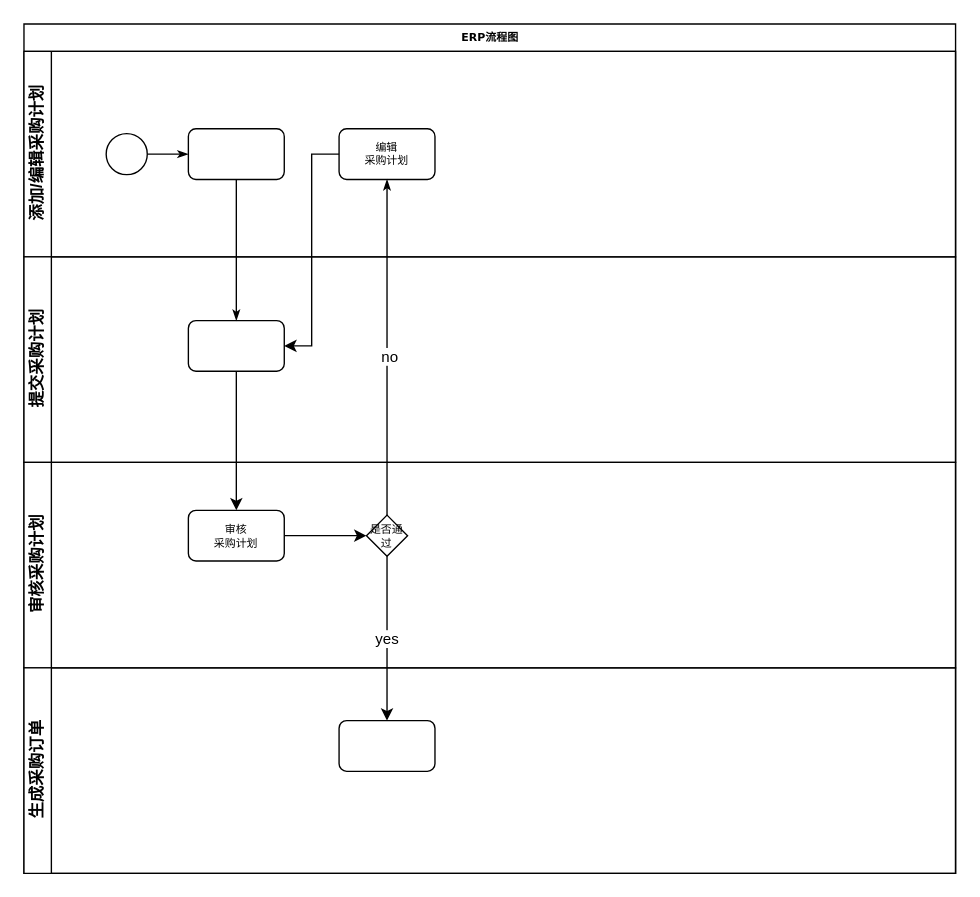
Some shapes in this 980 by 897 pixel diagram are drawn without their labels. The centre of each missing label's shape, as x and y in pixels:
"提交 采购计划" goes at pixel 235 345.
"添加 采购计划" goes at pixel 235 153.
"生成 采购订单" goes at pixel 386 745.
"登录" goes at pixel 126 153.
